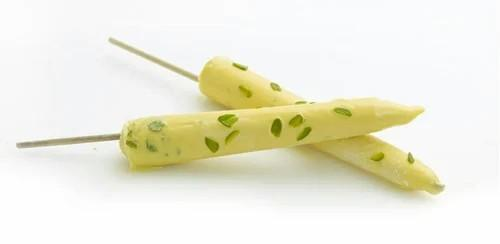Kulfi: (201, 56, 445, 197), (119, 97, 425, 174)
